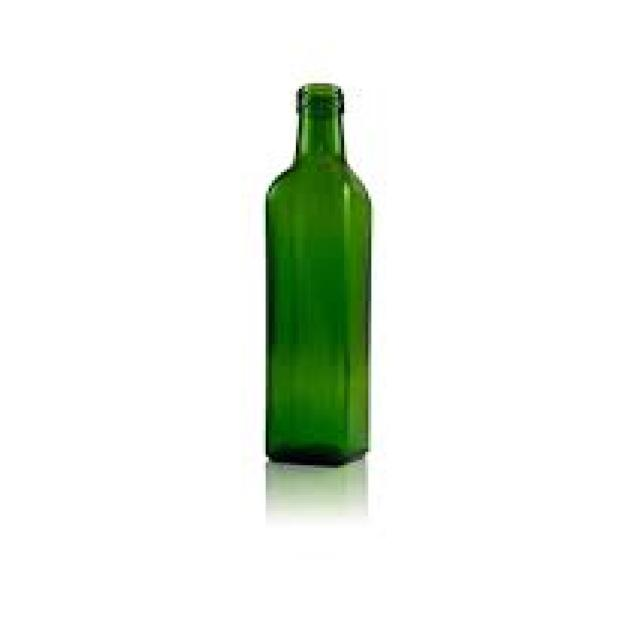glass: (263, 81, 365, 465)
